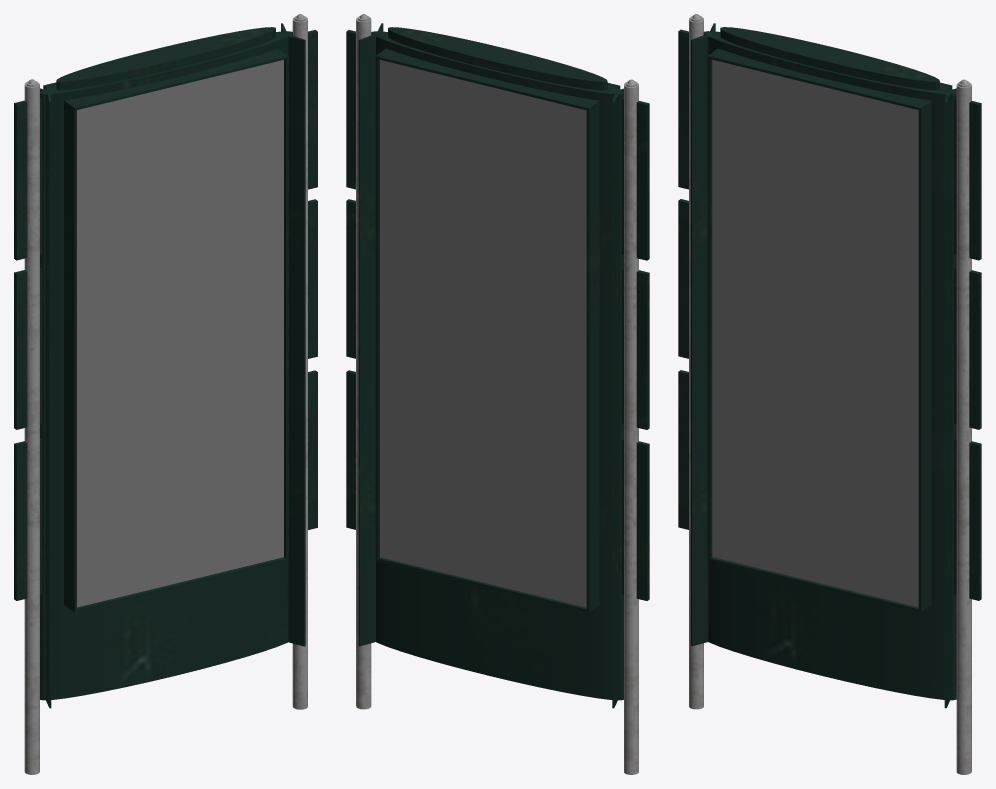
Rendered from Panel00.fbx.
3 views of the same model, side by side, from view 1: azimuth 30°, elevation 25°; view 2: azimuth 150°, elevation 25°; view 3: azimuth 330°, elevation 25° (orthographic).
Parts seen in each view (by area): view 1: O_panel; view 2: O_panel; view 3: O_panel.
Part boxes in pixels (left/top/right/bottom): O_panel: left=14, top=14, right=317, bottom=774; O_panel: left=346, top=14, right=649, bottom=774; O_panel: left=678, top=14, right=981, bottom=774.
Size of the model in its own units: 0.8924 by 1.96 by 0.1606.
